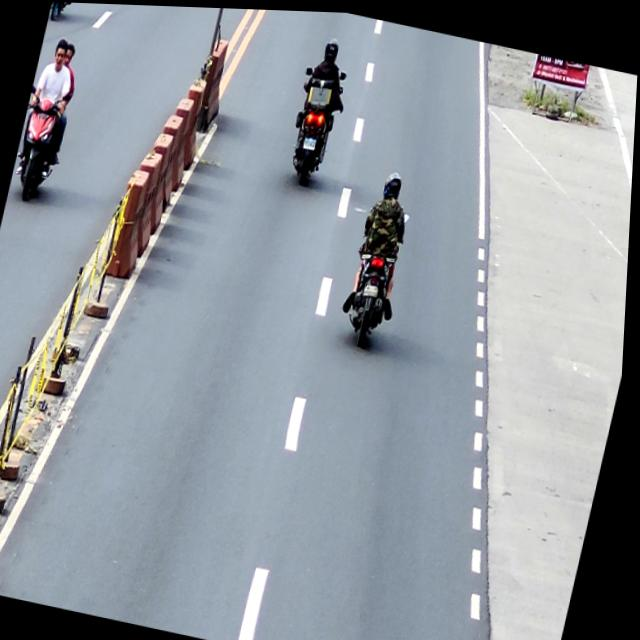License-Plate: (364, 279, 383, 296), (302, 133, 319, 149)
Motorcycle: (339, 200, 413, 349), (281, 60, 348, 187), (9, 83, 74, 206), (48, 1, 80, 22)
